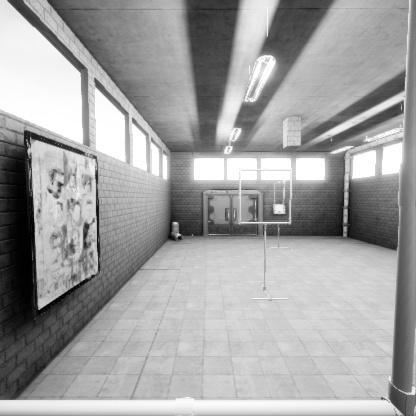gate: (240, 195, 294, 248), (274, 204, 284, 236)
